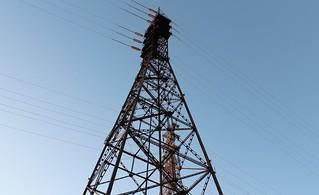power_tower: (81, 9, 226, 195)
